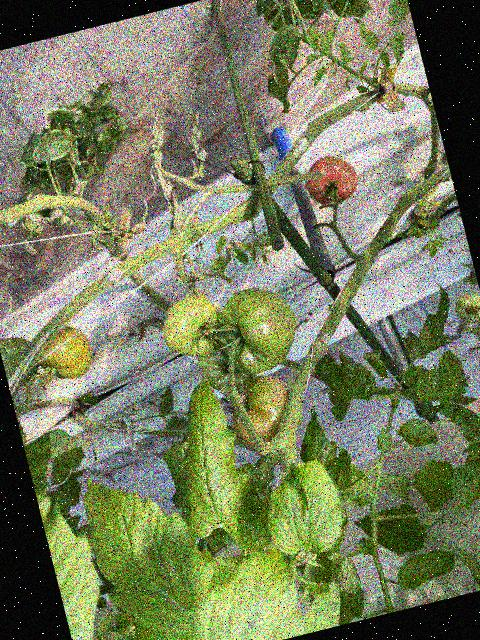b_fully_ripened: (298, 149, 363, 211)
b_green: (211, 277, 307, 380), (154, 287, 231, 365), (194, 334, 259, 396), (0, 331, 43, 390), (451, 289, 480, 328)
b_half_ripened: (223, 369, 302, 453), (28, 321, 98, 386)
